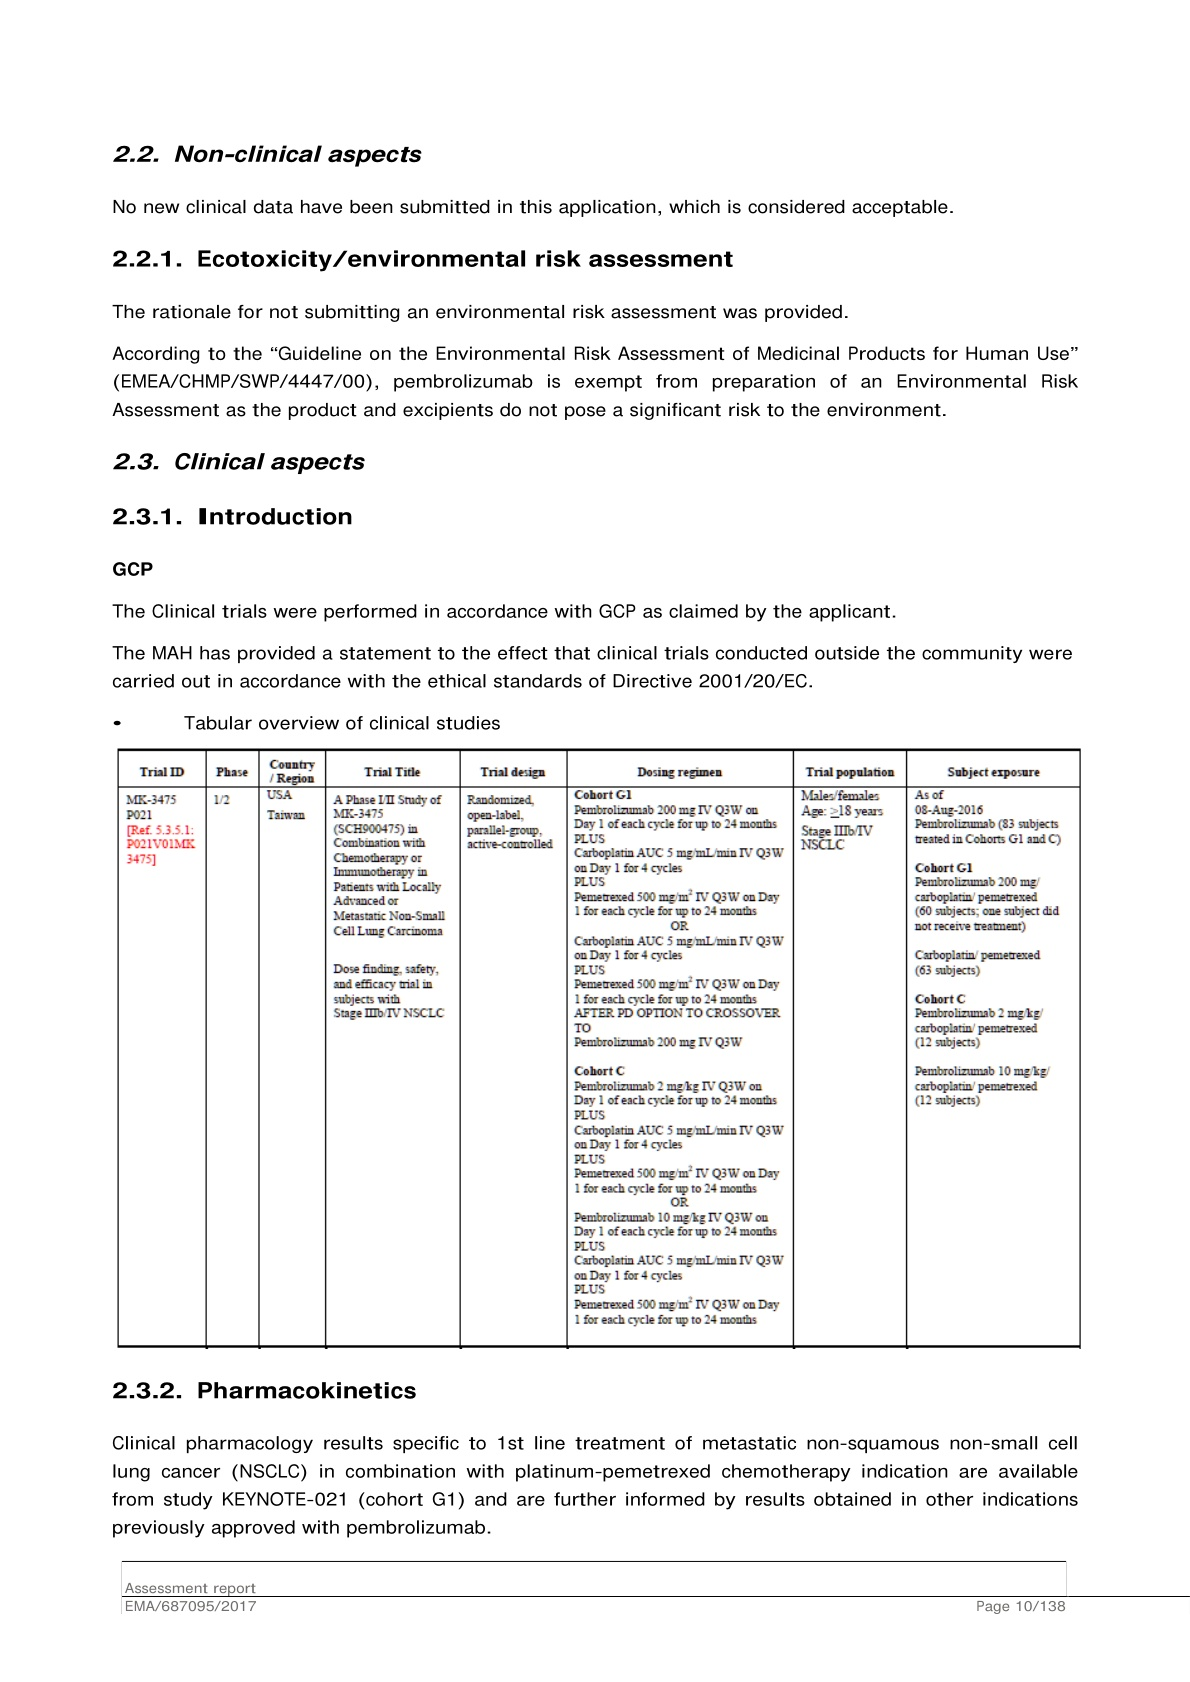full_lined: (117, 747, 1082, 1348)
